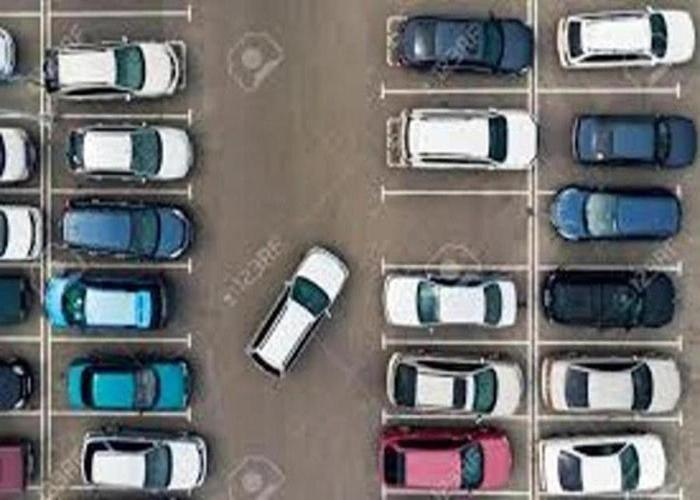empty: (385, 186, 535, 271)
occupied: (42, 12, 194, 124), (47, 411, 195, 492), (379, 101, 542, 174), (536, 353, 685, 423), (377, 429, 520, 496), (379, 265, 522, 331), (537, 432, 674, 499), (65, 120, 198, 188), (387, 347, 528, 411), (42, 268, 173, 336), (394, 13, 539, 74), (570, 101, 699, 169), (542, 13, 700, 68), (541, 266, 681, 328), (546, 184, 688, 245), (68, 352, 200, 415)
